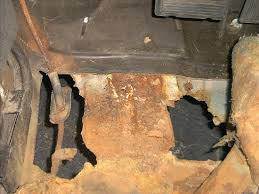rust: (79, 75, 178, 192), (26, 166, 225, 194), (226, 35, 259, 194), (17, 1, 65, 71)
